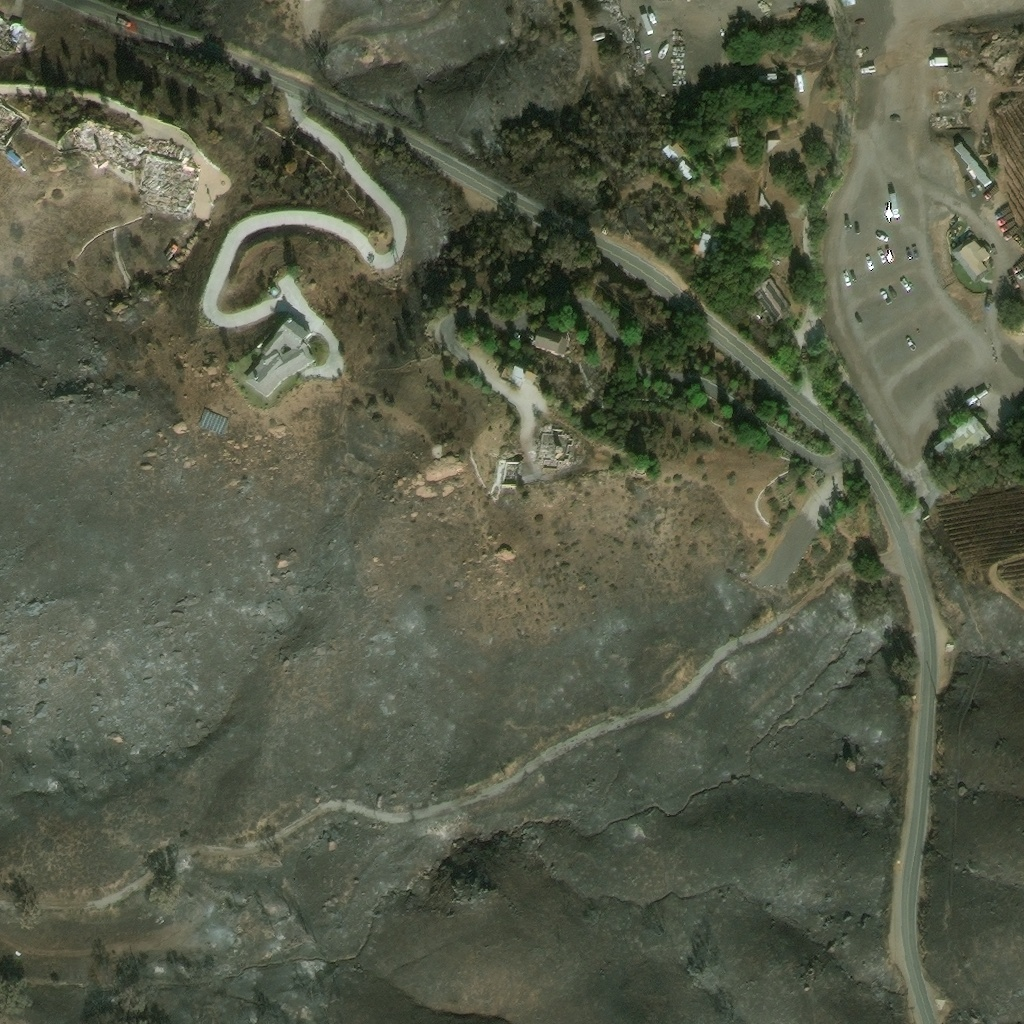0 no-damage: (242, 319, 317, 401), (932, 414, 991, 460), (748, 277, 791, 326), (949, 234, 990, 281), (952, 141, 991, 188), (531, 329, 568, 356), (199, 411, 227, 435), (675, 160, 691, 181), (697, 233, 711, 254), (510, 366, 524, 384), (758, 72, 777, 85), (496, 551, 512, 564), (758, 192, 770, 209), (660, 145, 674, 159), (766, 140, 780, 153), (728, 137, 737, 147)
3 destroyed: (136, 139, 200, 217), (68, 114, 142, 173), (533, 430, 574, 471), (0, 15, 34, 53), (0, 105, 24, 148), (491, 460, 521, 492), (602, 0, 626, 30), (932, 113, 966, 127), (949, 37, 973, 52)
4 un-classified: (839, 0, 855, 8)
